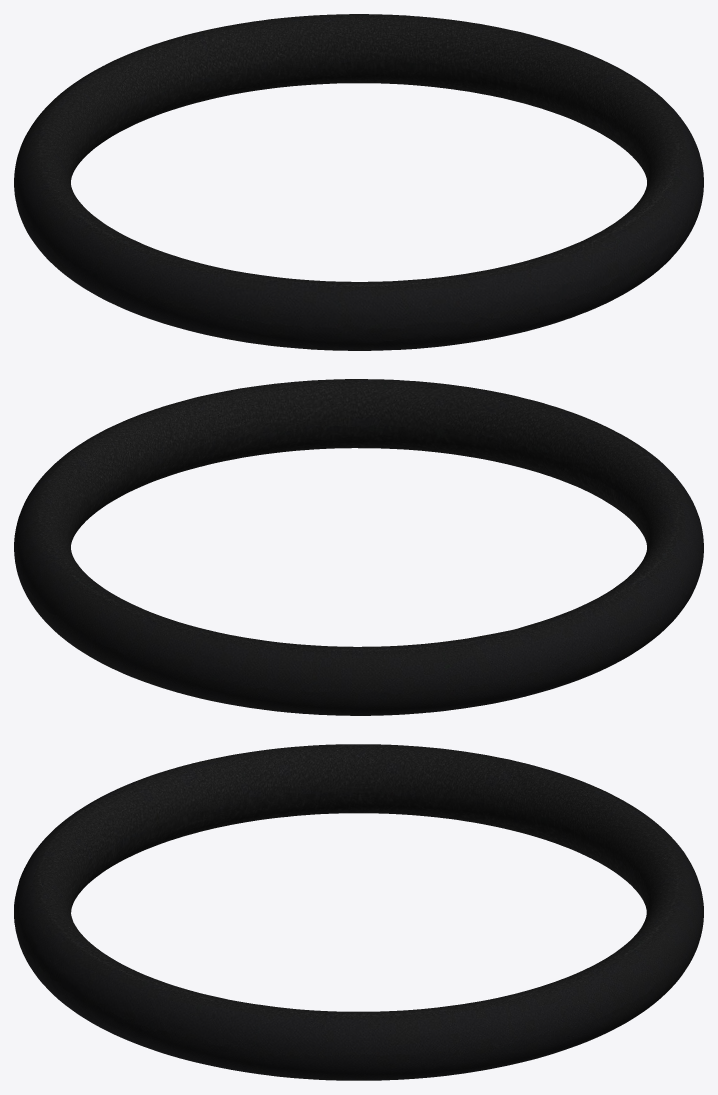
Rendered from ring_obsidian.glb.
3 views of the same model, one above another, from view 1: azimuth 30°, elevation 25°; view 2: azimuth 150°, elevation 25°; view 3: azimuth 270°, elevation 25° (orthographic).
Size of the model in its own units: 1.89 by 0.1975 by 1.89.
Materials: 1 (1 with a texture image).
